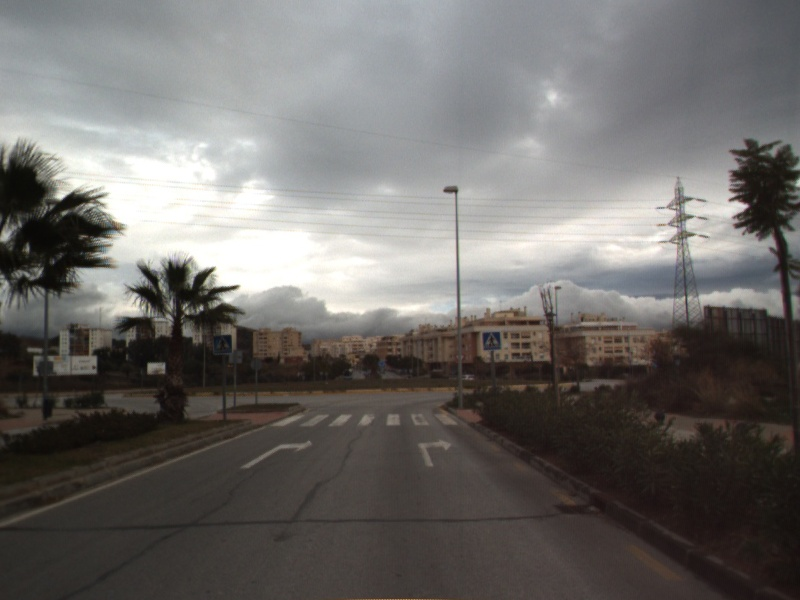RIGHT: (239, 438, 315, 470), (416, 437, 454, 469)
